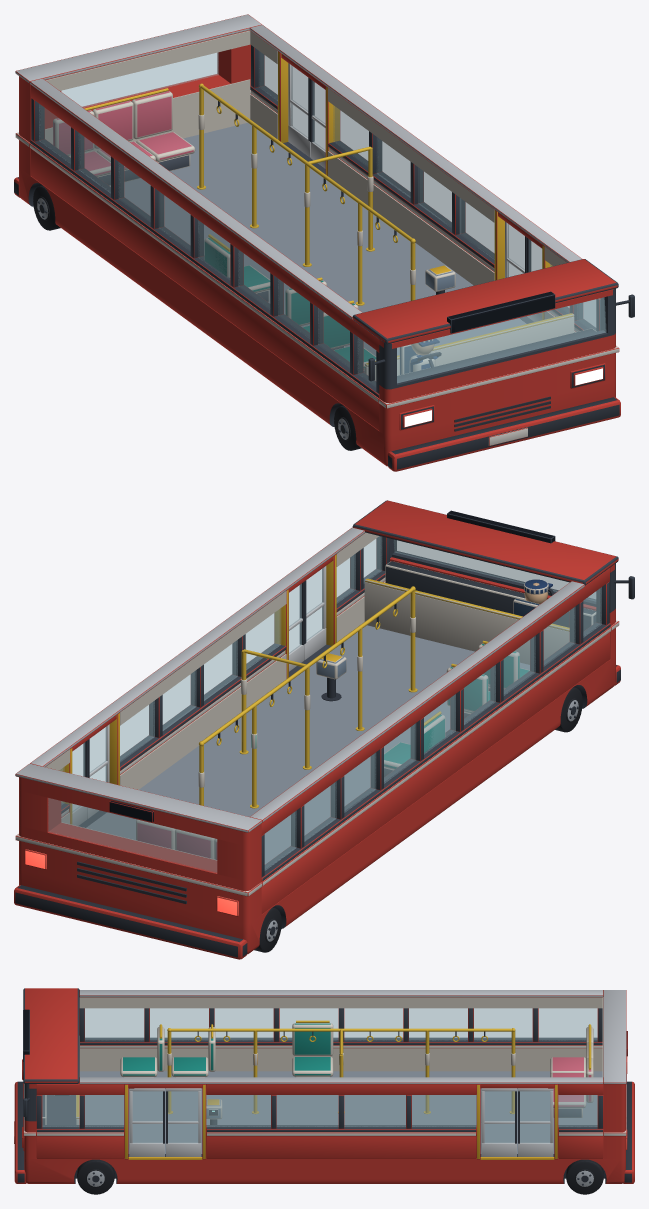
Rendered from bus.glb.
3 views of the same model, one above another, from view 1: azimuth 30°, elevation 25°; view 2: azimuth 150°, elevation 25°; view 3: azimuth 270°, elevation 25° (orthographic). The views are drawn at different scales.
Visible parts, largest first — view 1: bus_lower, floor_surface, bus_far_upper, bus_interior, bus_nose_upper, bus_near_upper, bus_chassis, bus_tail_upper, door_back_a, door_back_b, sign_front, door_front_a (+2 smaller); view 2: bus_lower, floor_surface, bus_far_upper, bus_interior, bus_near_upper, bus_tail_upper, bus_chassis, bus_nose_upper, door_front_b, door_front_a, door_back_b, axle_rear (+2 smaller); view 3: bus_lower, bus_far_upper, bus_near_upper, floor_surface, bus_chassis, bus_interior, bus_nose_upper, bus_tail_upper, door_back_b, door_front_a, door_front_b, door_back_a (+2 smaller).
Boxes of the visible parts, x1,y1,x2,y2 form: bus_lower: (14, 51, 620, 471); floor_surface: (110, 122, 526, 355); bus_far_upper: (29, 78, 379, 393); bus_interior: (53, 83, 596, 380); bus_nose_upper: (352, 259, 634, 389); bus_near_upper: (249, 25, 600, 331); bus_chassis: (19, 167, 615, 466); bus_tail_upper: (15, 14, 261, 132); door_back_a: (288, 63, 310, 157); door_back_b: (310, 79, 325, 168); sign_front: (455, 297, 552, 331); door_front_a: (505, 221, 526, 277); bus_lower: (14, 554, 620, 959); floor_surface: (86, 625, 529, 863); bus_far_upper: (250, 568, 609, 876); bus_interior: (136, 561, 596, 864); bus_near_upper: (30, 527, 389, 803); bus_tail_upper: (15, 763, 262, 880); bus_chassis: (19, 655, 615, 954); bus_nose_upper: (352, 500, 634, 612); door_front_b: (304, 566, 326, 660); door_front_a: (289, 581, 304, 671); door_back_b: (87, 724, 109, 818); axle_rear: (254, 907, 281, 952); bus_lower: (14, 1037, 634, 1183); bus_far_upper: (79, 990, 603, 1041); bus_near_upper: (36, 1077, 603, 1128); floor_surface: (80, 1071, 602, 1153); bus_chassis: (24, 1157, 625, 1183); bus_interior: (42, 1020, 593, 1124); bus_nose_upper: (23, 988, 79, 1121); bus_tail_upper: (602, 990, 627, 1123); door_back_b: (481, 1088, 516, 1156); door_front_a: (166, 1088, 201, 1156); door_front_b: (129, 1088, 164, 1156); door_back_a: (518, 1088, 553, 1156).
Bounding box in the file's own units: 6.08 × 3.29 × 15.17.
